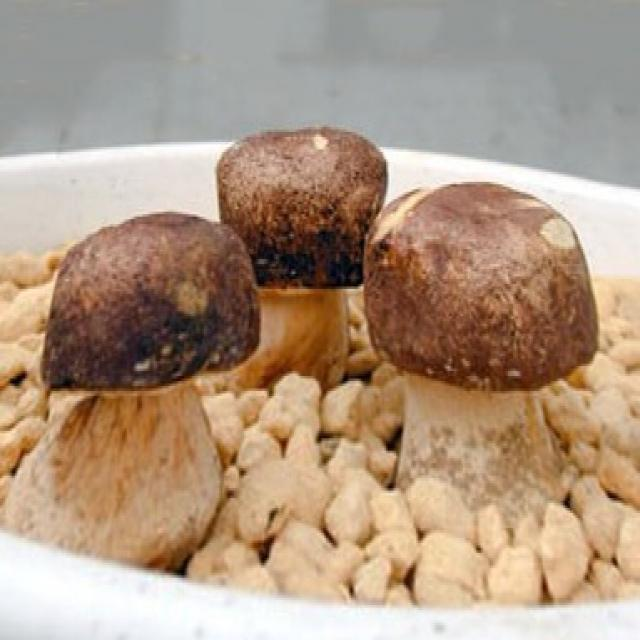Agaricus blazei Murill: (364, 179, 600, 517), (49, 209, 253, 560), (215, 133, 390, 376)
